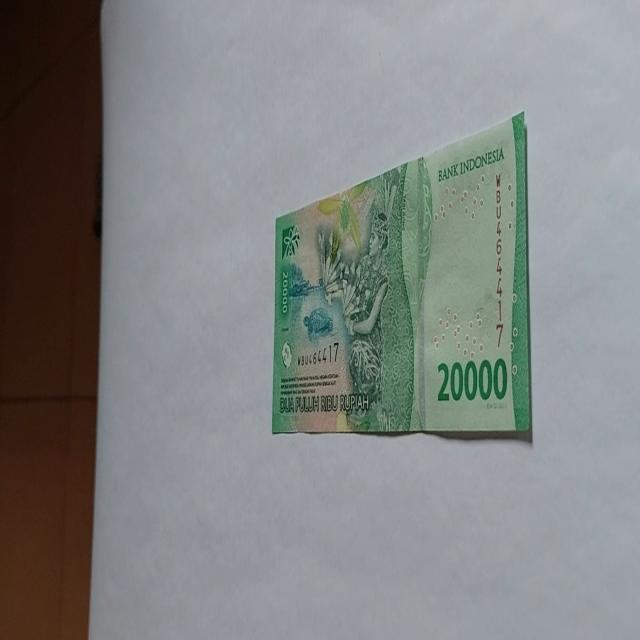dua puluh ribu rupiah: (272, 109, 532, 443)
